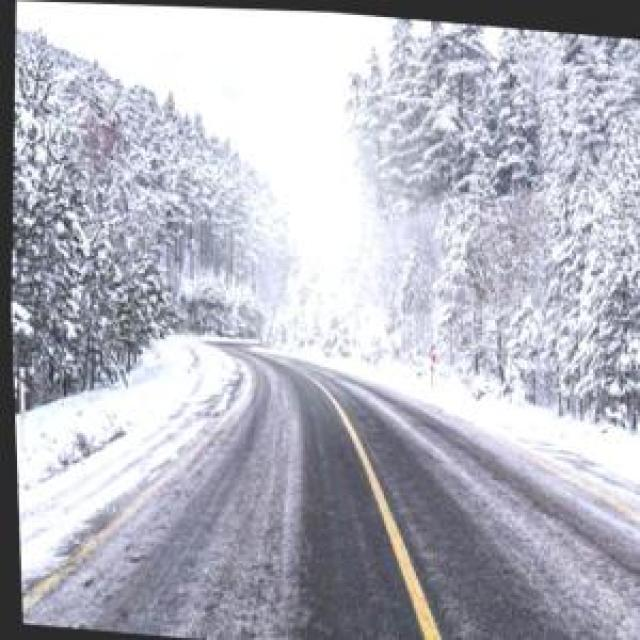ice-road: (18, 334, 640, 640)
